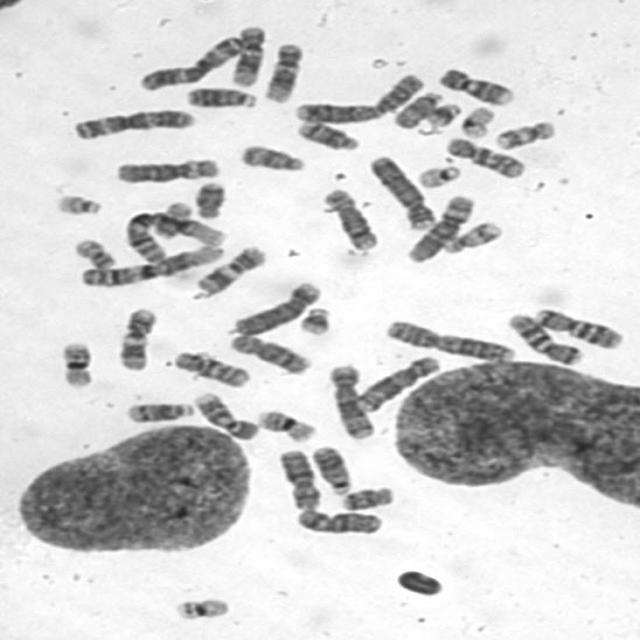A1: (76, 241, 228, 288), (119, 207, 227, 265)
A2: (290, 70, 426, 125), (380, 316, 515, 362)
A3: (134, 26, 271, 92), (68, 105, 198, 141)
B4: (229, 278, 323, 337), (366, 152, 436, 230)
B5: (352, 353, 442, 412), (326, 361, 377, 441)
C10: (441, 133, 527, 180), (170, 347, 252, 389)
C11: (189, 242, 270, 300), (114, 304, 159, 372)
C12: (259, 41, 304, 102), (228, 24, 266, 87)
C6: (402, 191, 475, 264), (111, 154, 222, 184)
C7: (504, 309, 584, 366), (531, 305, 624, 350)
C8: (318, 186, 380, 252), (224, 331, 314, 376)
C9: (190, 390, 260, 441), (434, 65, 515, 106)
D13: (307, 442, 354, 495), (182, 84, 259, 110)
D14: (293, 119, 362, 152), (121, 399, 194, 423)
D15: (388, 89, 445, 130), (236, 142, 307, 172)
E16: (254, 406, 318, 444), (56, 340, 96, 389)
E17: (438, 219, 504, 255), (491, 118, 558, 150)
E18: (336, 482, 395, 512), (190, 179, 227, 219)
F19: (170, 594, 232, 622), (457, 104, 496, 139)
F20: (151, 199, 194, 239), (69, 236, 118, 269)
G21: (295, 304, 333, 336), (425, 101, 463, 128)
G22: (54, 191, 104, 217), (414, 163, 462, 190)
X: (274, 446, 322, 511), (291, 505, 384, 536)
